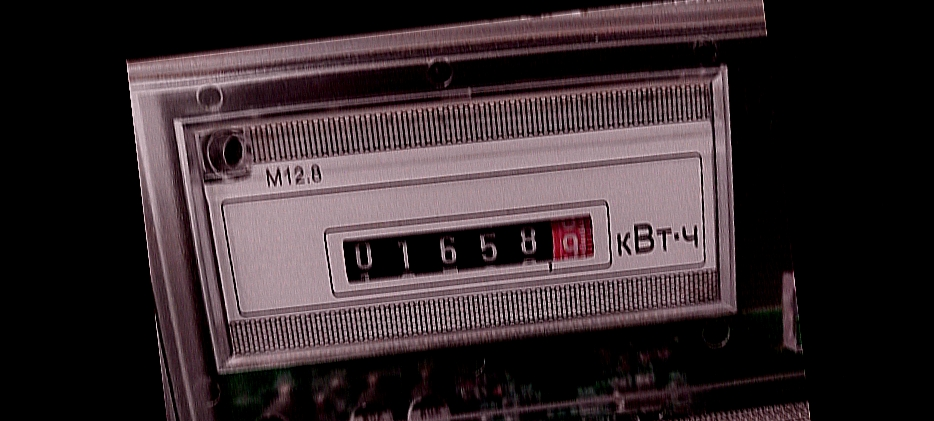0: (355, 237, 378, 269)
1: (398, 235, 418, 269)
5: (479, 227, 504, 261)
6: (439, 229, 463, 264)
8: (520, 220, 543, 254)
9: (561, 229, 585, 259)
screen: (316, 187, 624, 303)
